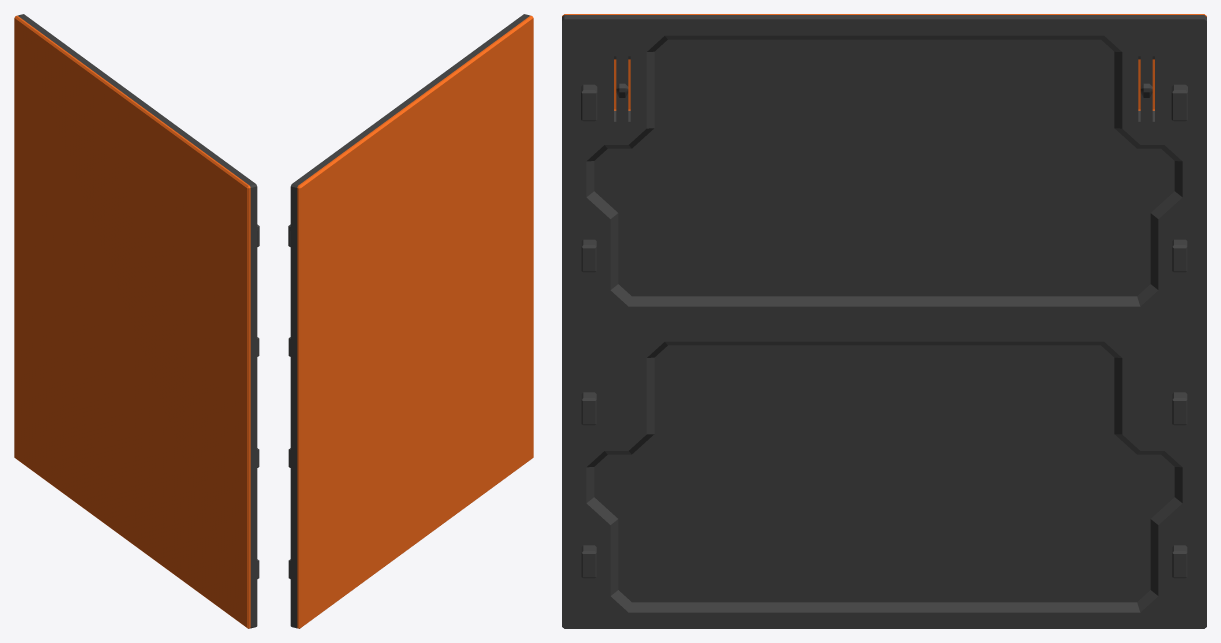
Rendered from SideCover_115-2H.lib.glb.
3 views of the same model, side by side, from view 1: azimuth 30°, elevation 25°; view 2: azimuth 150°, elevation 25°; view 3: azimuth 270°, elevation 25° (orthographic). The views are drawn at different scales.
Visible parts, largest first — view 1: SideCover_115-2H; view 2: SideCover_115-2H; view 3: SideCover_115-2H.
Part boxes in pixels (bbox=[...]): SideCover_115-2H: bbox=[14, 14, 259, 628]; SideCover_115-2H: bbox=[288, 14, 533, 628]; SideCover_115-2H: bbox=[562, 14, 1206, 628].
Size of the model in its own units: 5.05 by 112 by 107.
